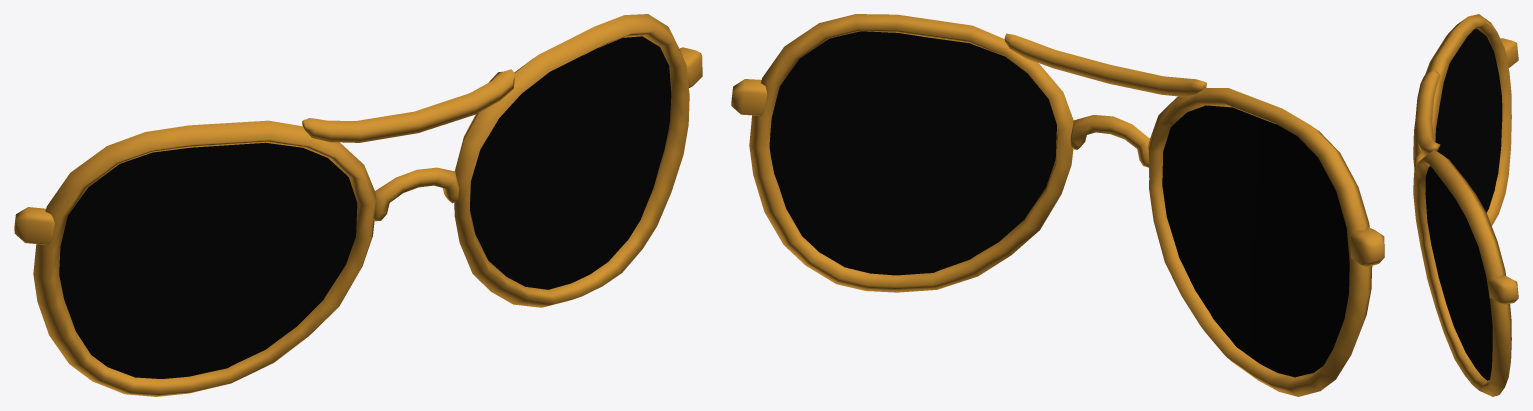
The model's file is AccessoryGlassDoublebridge0.glb.
The picture shows the model from 3 angles, left to right: view 1: azimuth 30°, elevation 25°; view 2: azimuth 150°, elevation 25°; view 3: azimuth 270°, elevation 25°; orthographic projection. The views are drawn at different scales.
Visible parts, largest first — view 1: AccessoryAlpha1__mAccessoryAlpha, Accessory__mAccessory; view 2: AccessoryAlpha1__mAccessoryAlpha, Accessory__mAccessory; view 3: AccessoryAlpha1__mAccessoryAlpha, Accessory__mAccessory.
Boxes of the visible parts, x1,y1,x2,y2 form: AccessoryAlpha1__mAccessoryAlpha: [59, 36, 671, 378]; Accessory__mAccessory: [14, 14, 702, 396]; AccessoryAlpha1__mAccessoryAlpha: [769, 31, 1349, 377]; Accessory__mAccessory: [731, 14, 1384, 396]; AccessoryAlpha1__mAccessoryAlpha: [1425, 29, 1502, 380]; Accessory__mAccessory: [1413, 14, 1518, 396].
Bounding box in the file's own units: 6.39 × 2.5 × 1.14.
2 materials, 2 textured.
